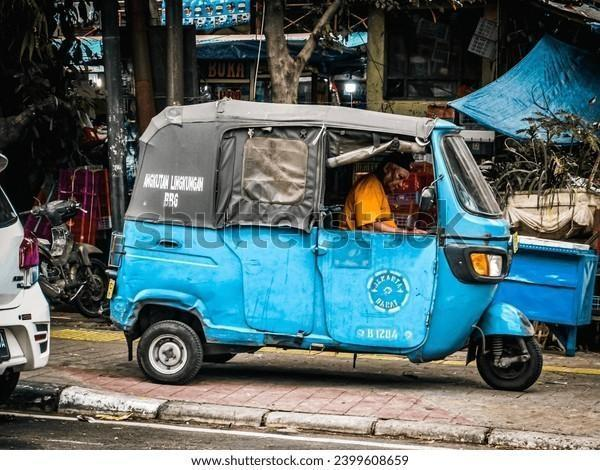keke: (108, 95, 547, 404)
